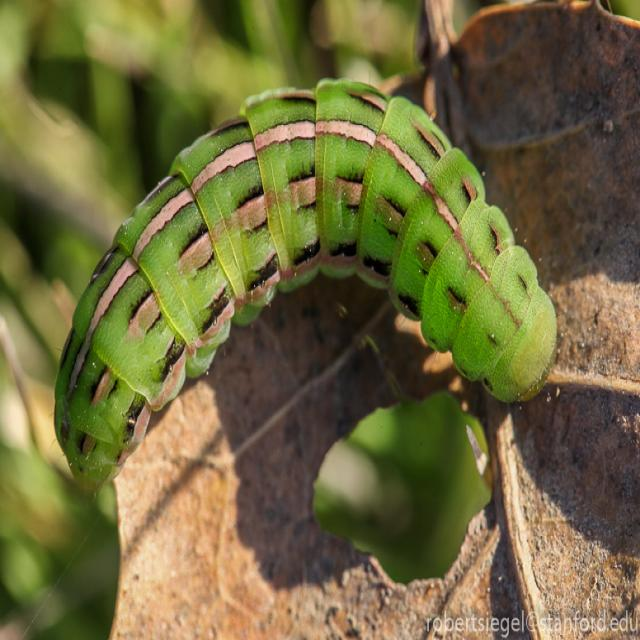Cutworm: (55, 88, 560, 493)
